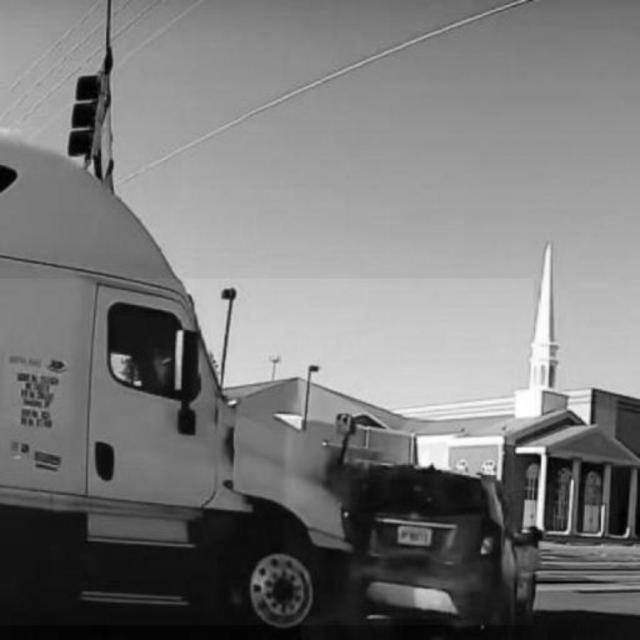accident: (0, 278, 533, 624)
